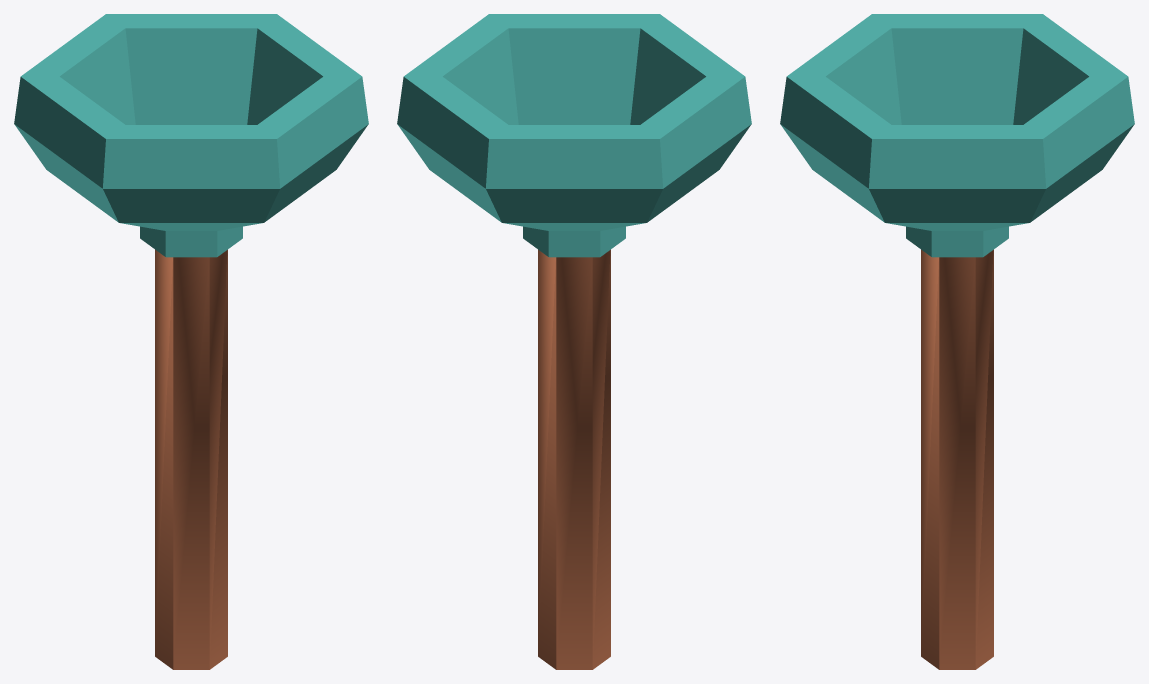
Rendered from projectile.glb.
The picture shows the model from 3 angles, left to right: view 1: azimuth 30°, elevation 25°; view 2: azimuth 150°, elevation 25°; view 3: azimuth 270°, elevation 25°; orthographic projection.
Parts seen in each view (by area): view 1: hook; view 2: hook; view 3: hook.
Part boxes in pixels (x1,y1,x2,y2): hook: (14,14,368,669); hook: (397,14,751,669); hook: (780,14,1134,669).
Size of the model in its own units: 4.14 by 8.63 by 4.78.
